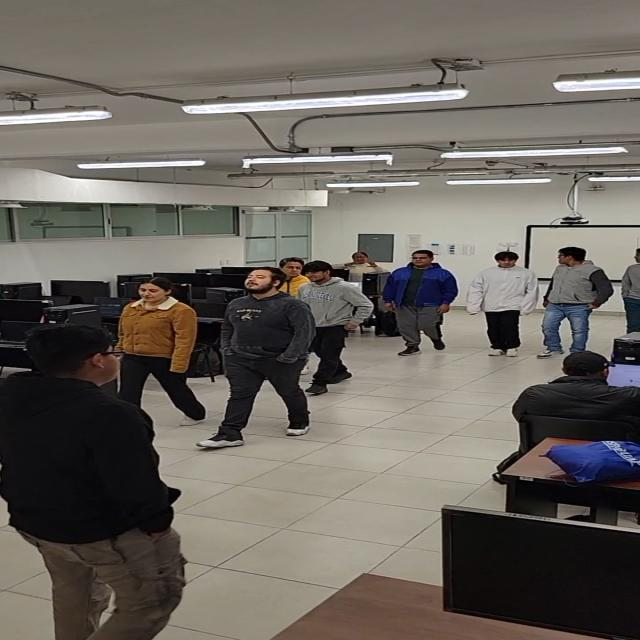Persona: (2, 329, 192, 640), (222, 263, 312, 451), (118, 272, 206, 426), (299, 260, 366, 396), (384, 250, 458, 358), (543, 248, 610, 358), (467, 249, 534, 359)
